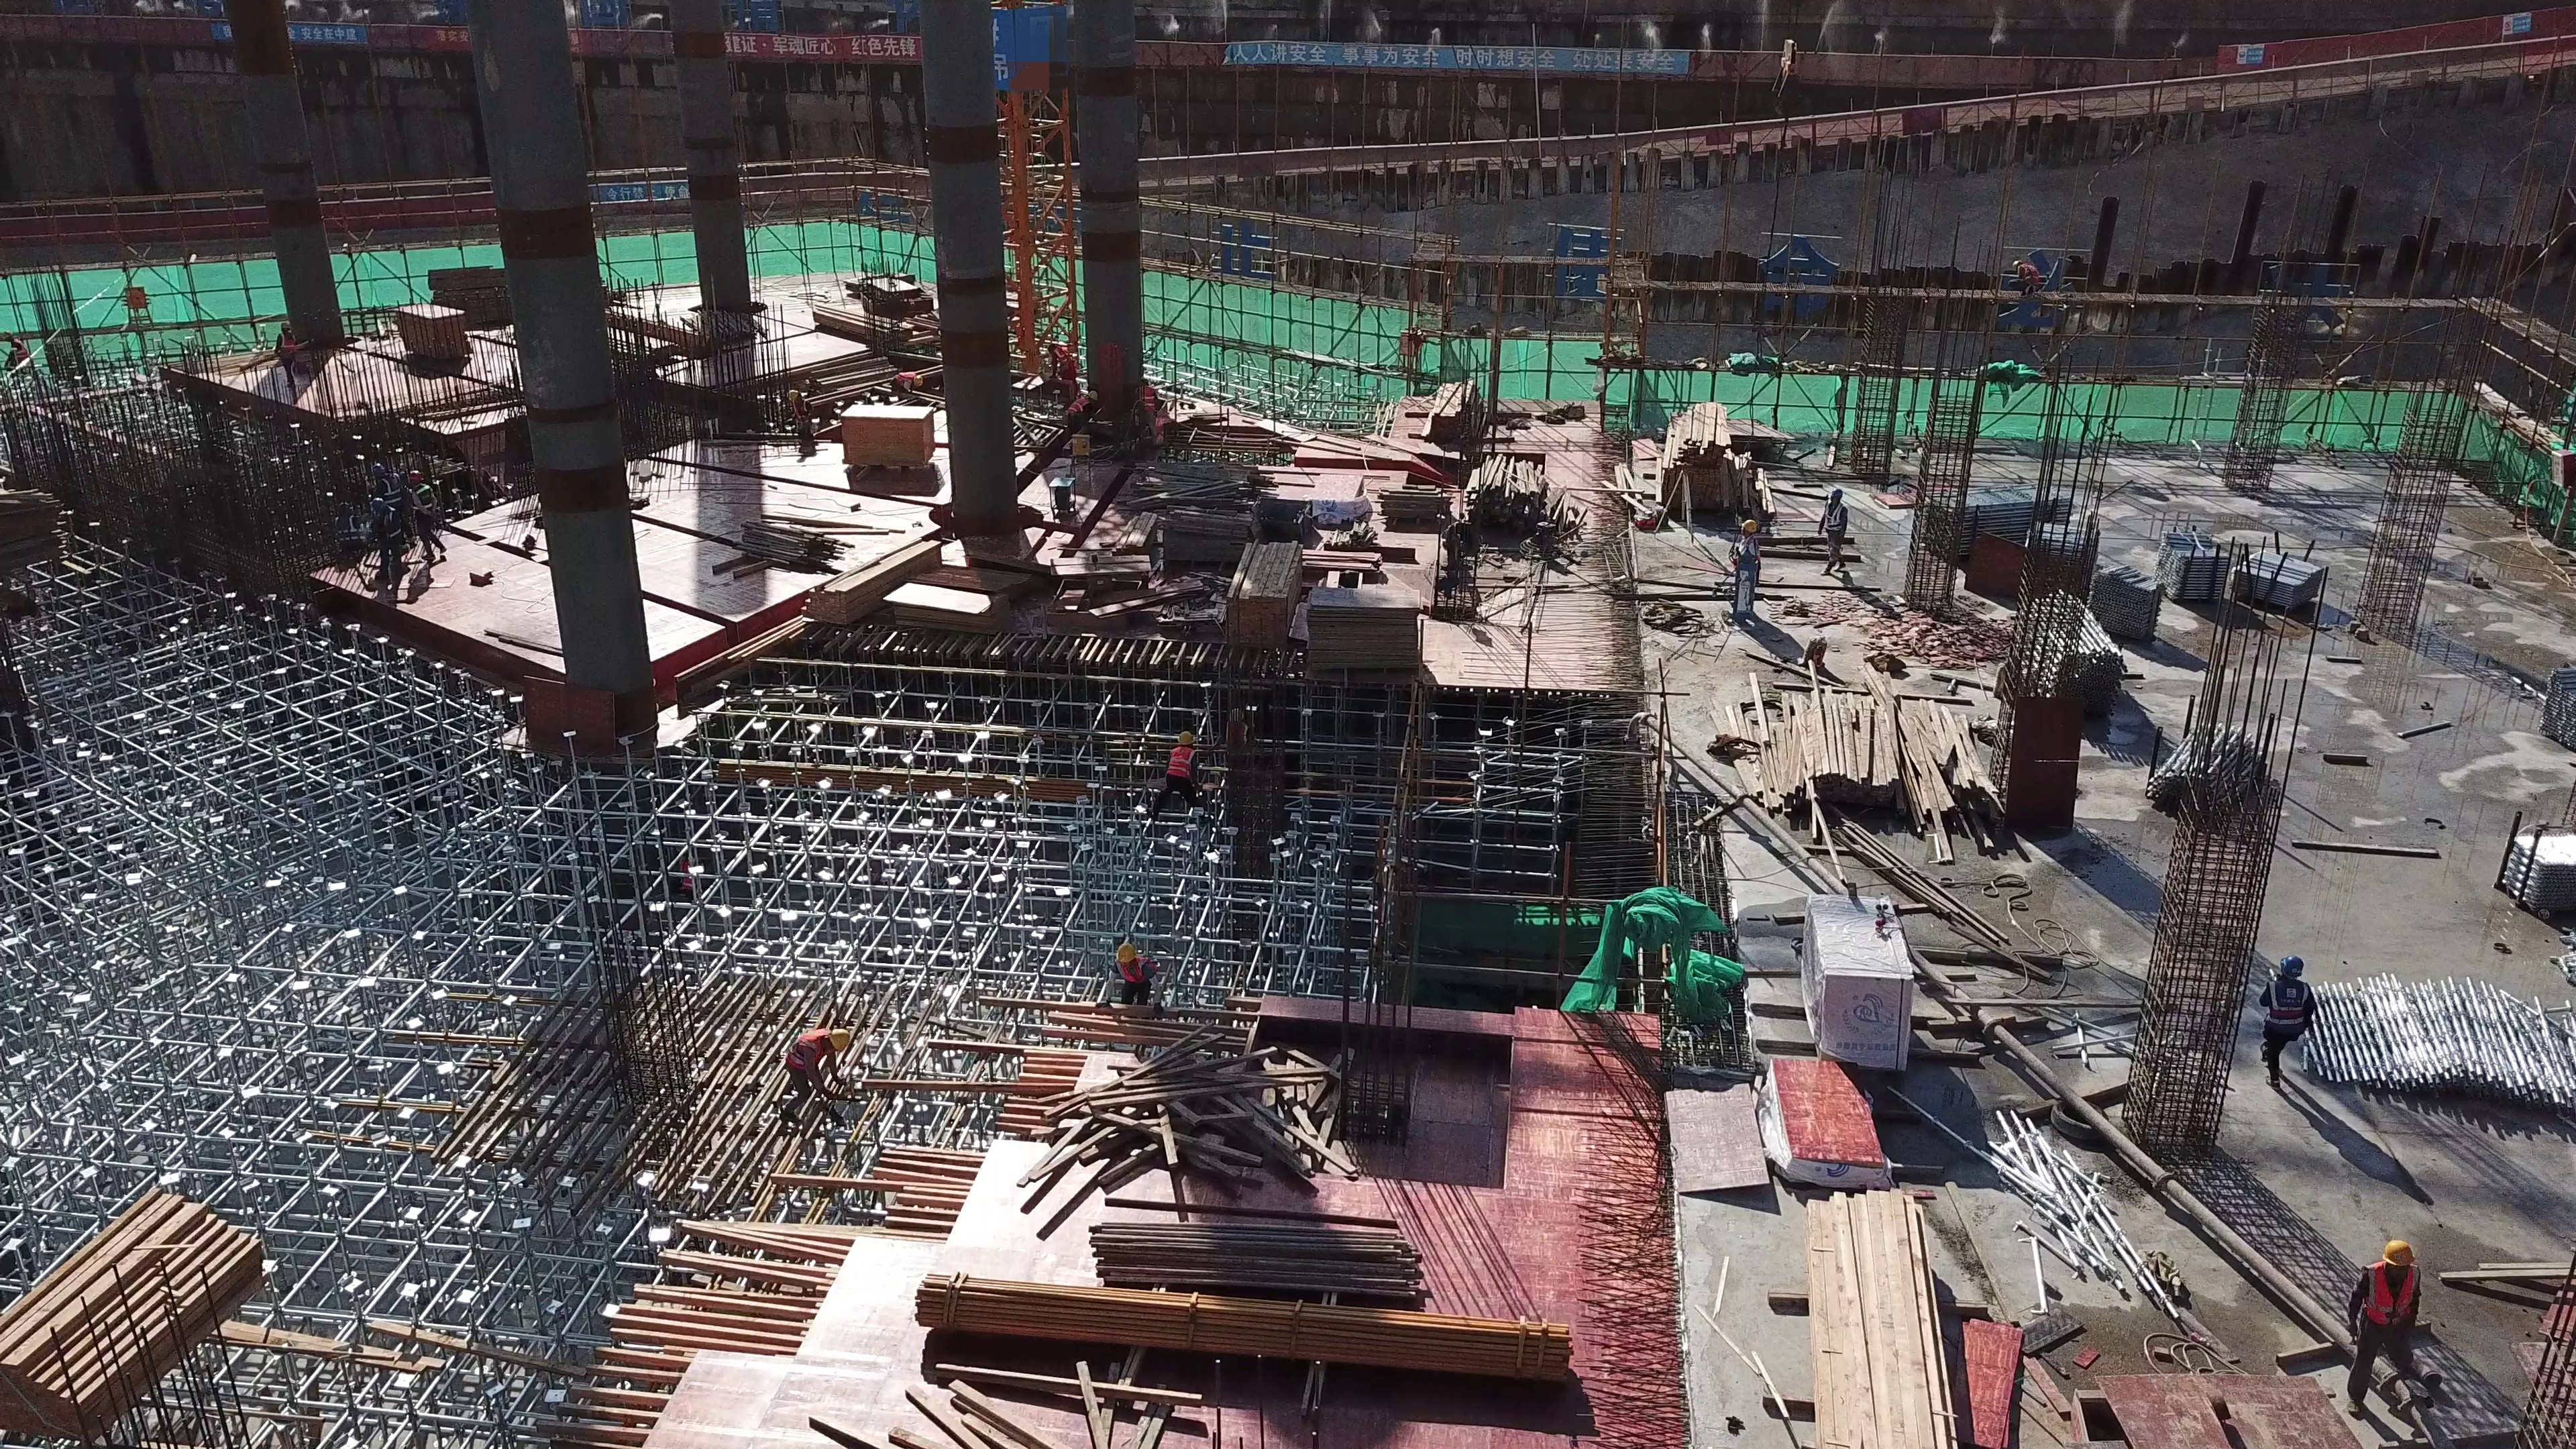board: (1782, 1057, 1888, 1175), (1313, 596, 1425, 666), (843, 407, 932, 467), (394, 301, 468, 365)
ebox: (1069, 435, 1090, 458)
fence: (1144, 120, 1818, 190), (2214, 8, 2574, 80), (1711, 46, 2164, 93)
helmet: (2383, 1239, 2416, 1267), (2279, 957, 2303, 981), (372, 496, 392, 516), (1738, 519, 1760, 534), (1118, 943, 1138, 961), (1175, 730, 1195, 745), (1827, 487, 1843, 502), (407, 471, 423, 486), (1230, 708, 1248, 721), (335, 502, 349, 517), (369, 462, 385, 474), (787, 386, 798, 402), (1087, 388, 1098, 400), (278, 322, 291, 329), (912, 374, 922, 386)
person: (2332, 1235, 2420, 1419), (774, 1024, 851, 1134), (2259, 955, 2308, 1097), (364, 462, 402, 578), (1730, 519, 1771, 610), (408, 472, 450, 564), (1160, 727, 1203, 810), (1112, 931, 1156, 1008), (1819, 487, 1847, 578), (1134, 378, 1162, 449), (1071, 385, 1097, 438), (788, 389, 812, 437), (889, 371, 924, 399)
scaffold: (2302, 981, 2576, 1122), (2141, 716, 2278, 844), (1930, 482, 2067, 571), (2032, 604, 2126, 729), (2500, 820, 2576, 930), (2229, 546, 2334, 610), (2151, 536, 2233, 606), (2092, 560, 2155, 637), (2024, 511, 2089, 575), (2532, 667, 2576, 753)
slogan: (1548, 234, 2345, 363), (1171, 42, 1698, 86), (716, 38, 924, 67), (287, 28, 476, 55)
vest: (2352, 1260, 2413, 1333), (2265, 981, 2306, 1040), (1169, 743, 1201, 782), (334, 515, 364, 547), (381, 478, 402, 513), (412, 488, 438, 519), (1822, 501, 1843, 537), (276, 331, 298, 364), (1737, 539, 1763, 566), (1120, 965, 1150, 987), (790, 401, 812, 433), (382, 511, 402, 543), (1063, 396, 1087, 415), (1140, 389, 1157, 415), (895, 372, 912, 387)
wood: (905, 1266, 1624, 1391), (1, 1193, 284, 1419), (1795, 1191, 1945, 1449), (1693, 690, 1986, 816), (1068, 1207, 1423, 1290), (1661, 412, 1770, 505), (1451, 458, 1563, 537), (1227, 533, 1302, 642)
